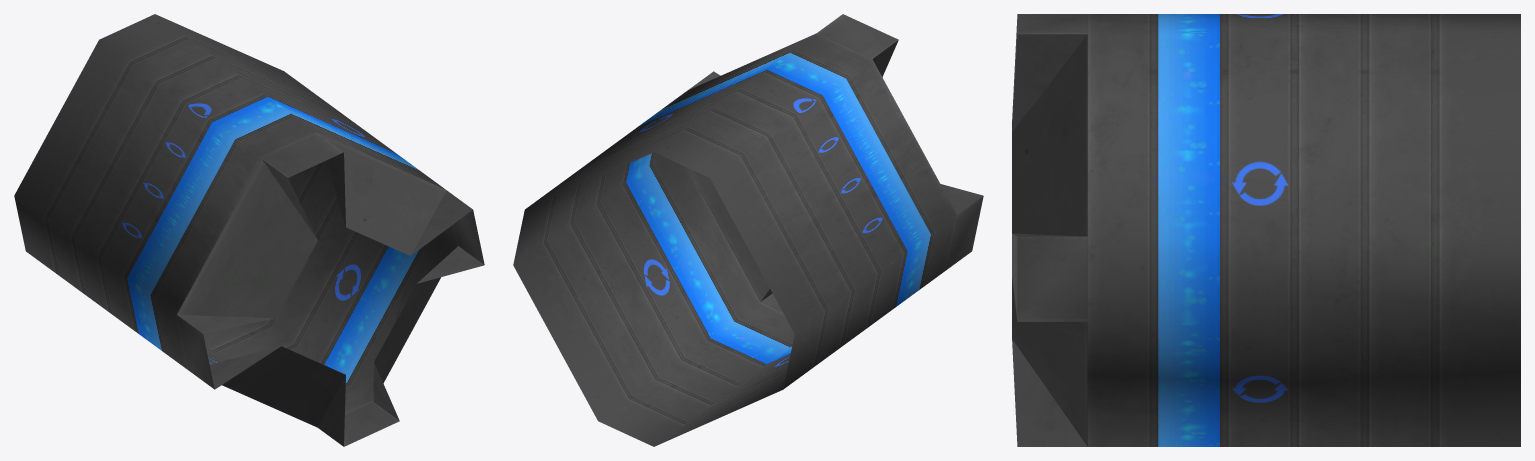
The model's file is nt_water_barrel_LOD2.obj.
The picture shows the model from 3 angles, left to right: view 1: azimuth 30°, elevation 25°; view 2: azimuth 150°, elevation 25°; view 3: azimuth 270°, elevation 25°; orthographic projection. The views are drawn at different scales.
Visible parts, largest first — view 1: mtl_nt_water_barrel; view 2: mtl_nt_water_barrel; view 3: mtl_nt_water_barrel.
Boxes of the visible parts, x1,y1,x2,y2 form: mtl_nt_water_barrel: (14,14,484,446); mtl_nt_water_barrel: (513,14,983,446); mtl_nt_water_barrel: (1012,14,1520,446).
Bounding box in the file's own units: 102 × 102 × 119.
